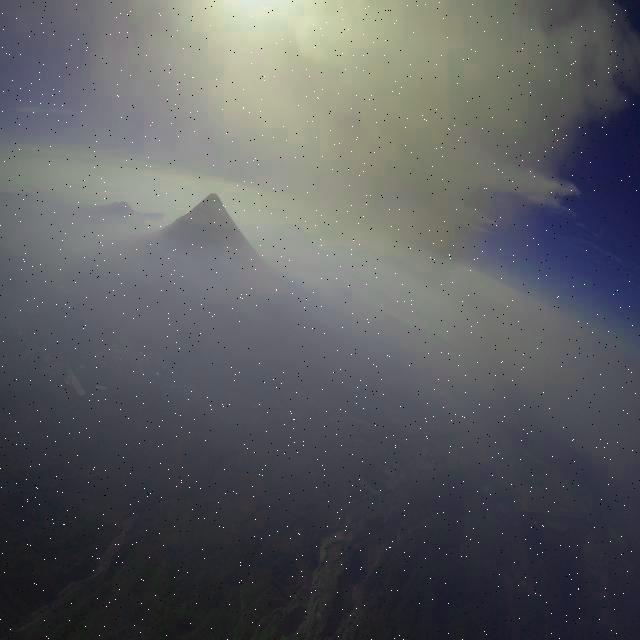Plume: (1, 0, 640, 274)
